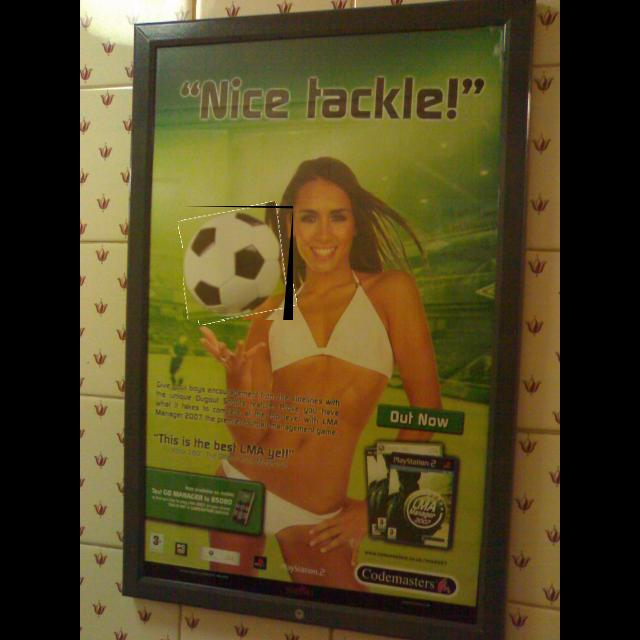Football: (183, 206, 293, 320)
